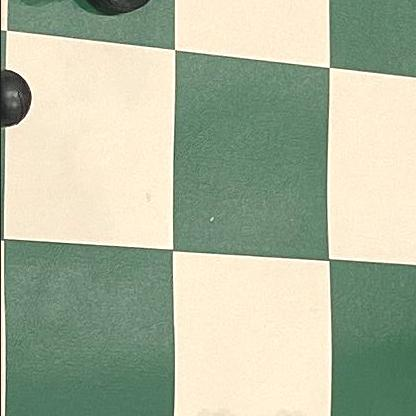black-pawn: (0, 43, 46, 174), (59, 0, 234, 26)
